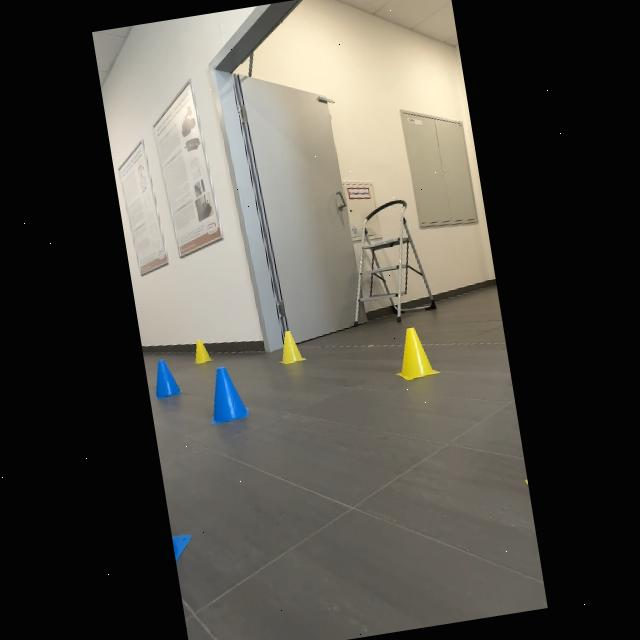blue_cone: (202, 353, 255, 432)
yellow_cone: (387, 318, 444, 388), (268, 322, 310, 374)
